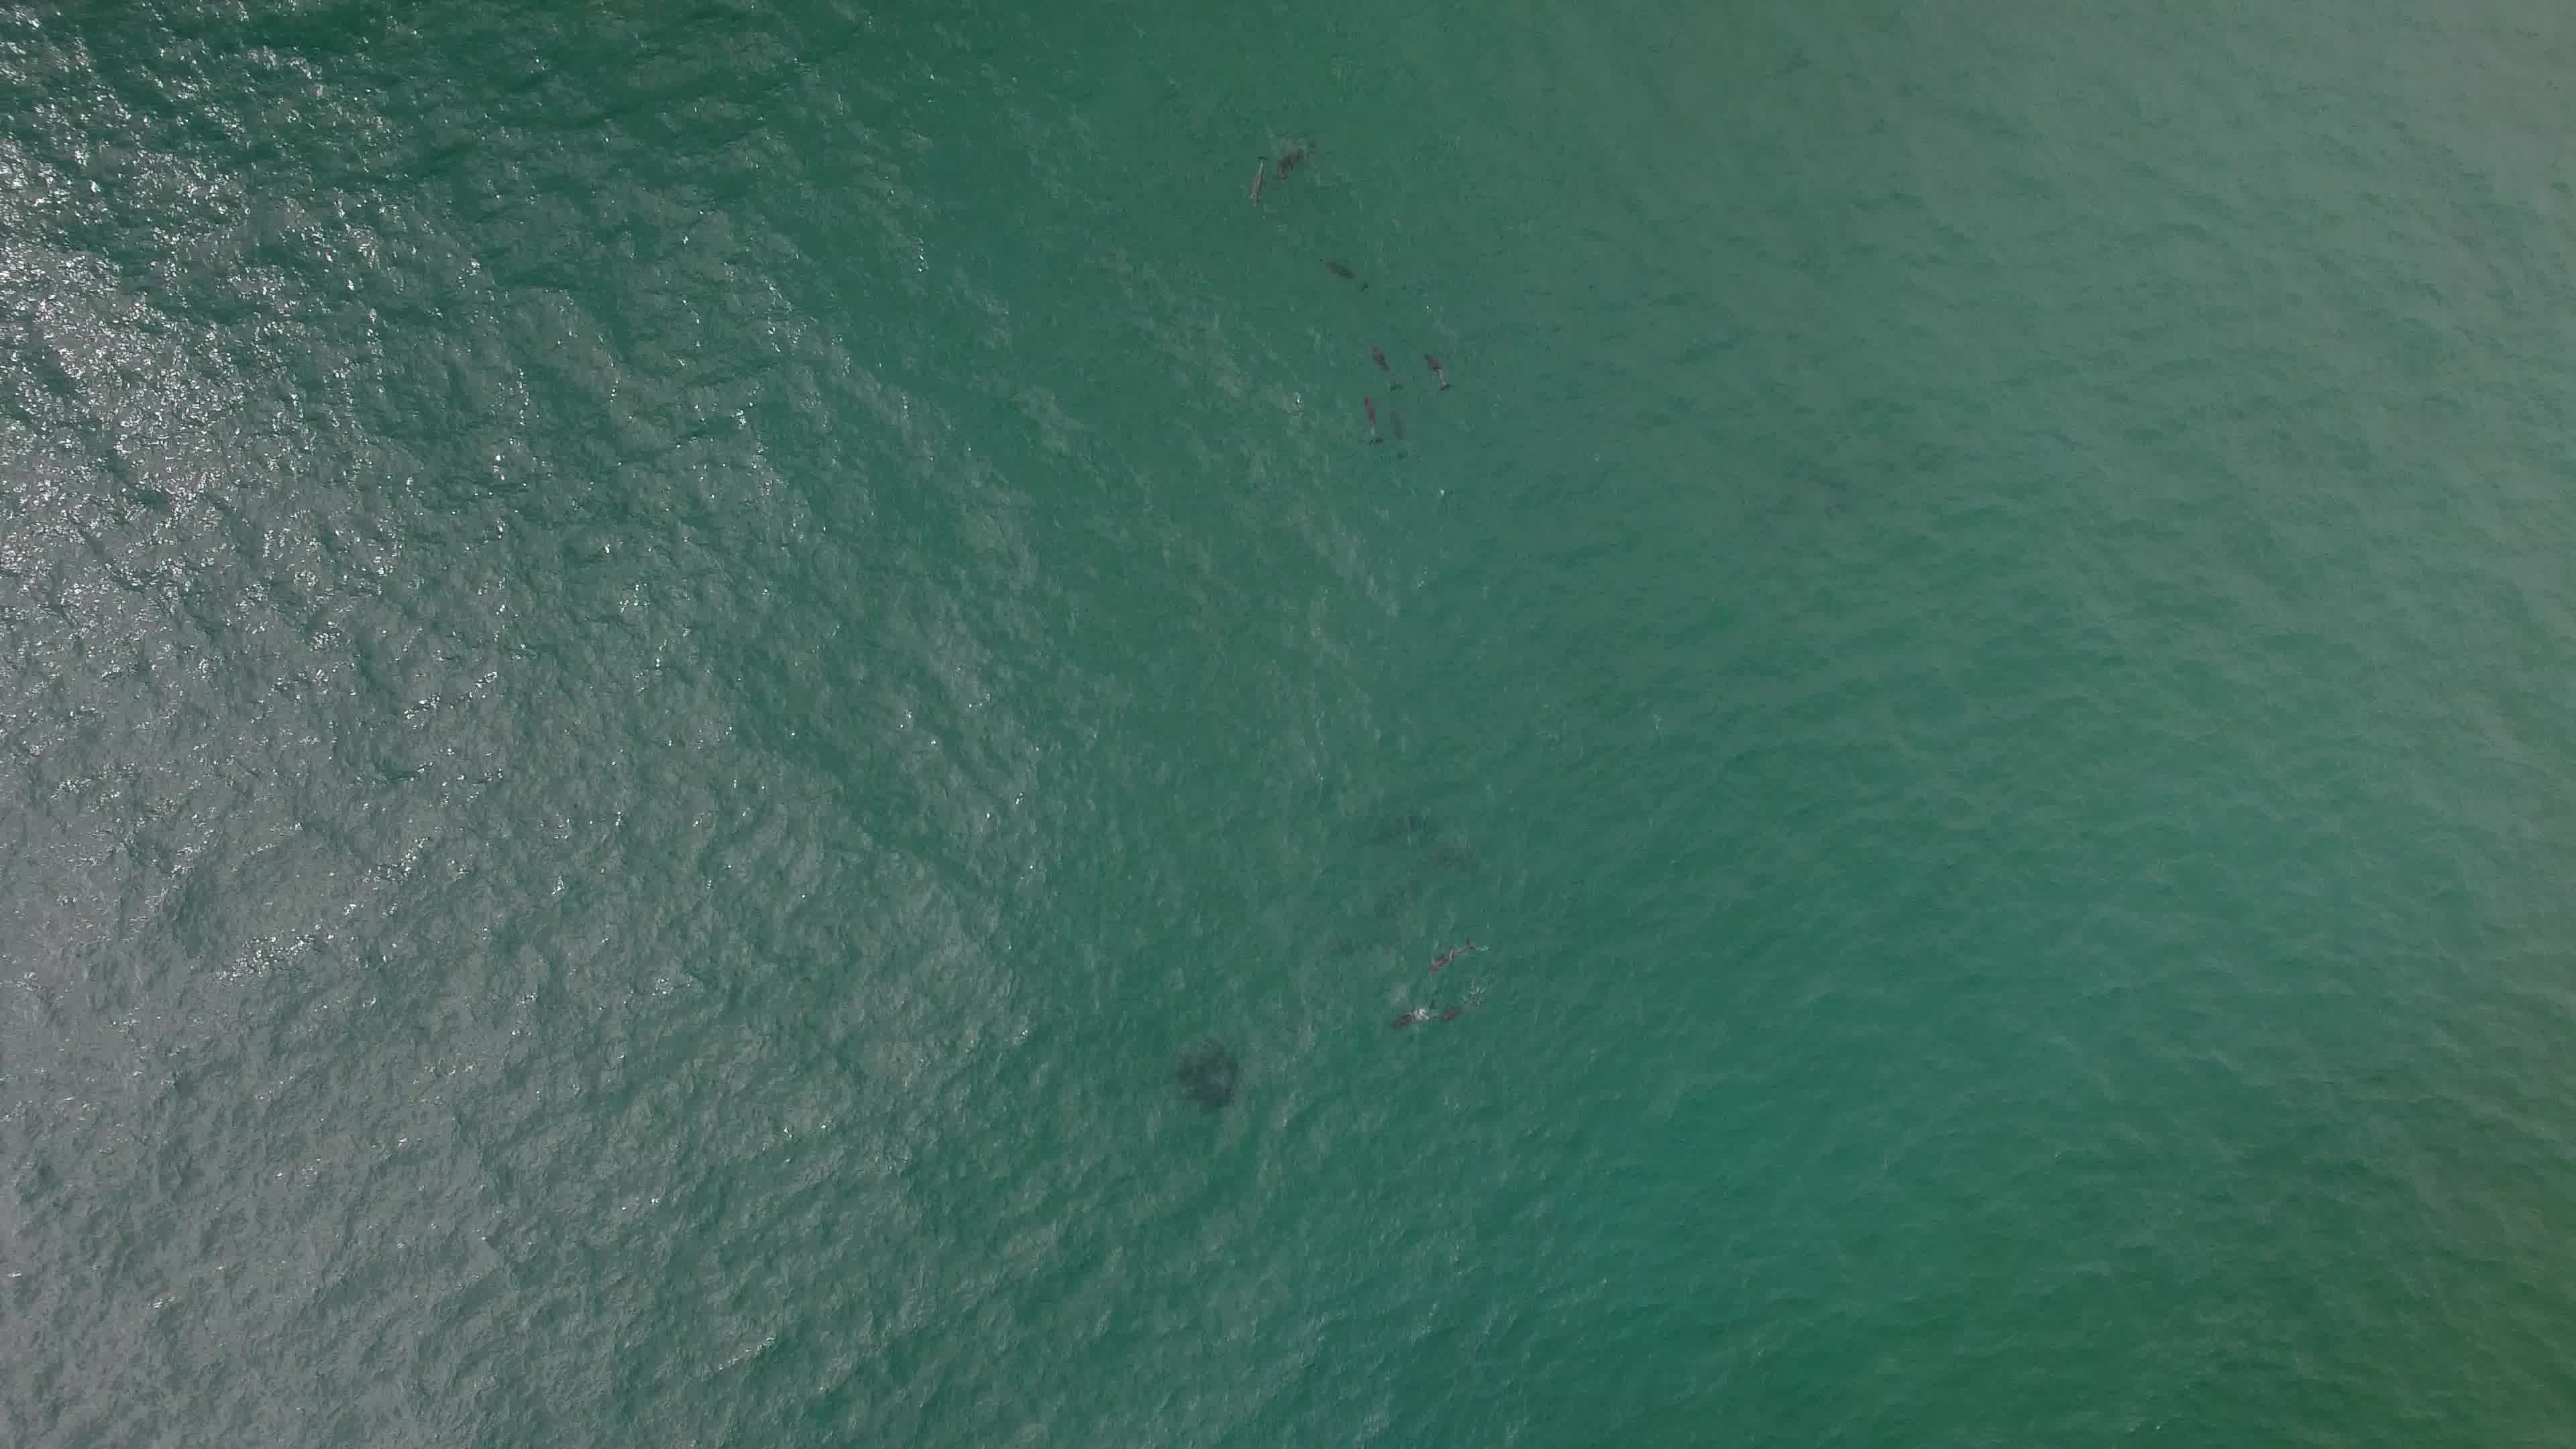dolphin: (1380, 982, 1497, 1040), (1221, 136, 1272, 228), (1302, 235, 1378, 297), (1408, 334, 1467, 414), (1407, 927, 1491, 978), (1350, 324, 1408, 398), (1343, 382, 1385, 451)
